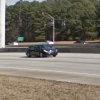Car: (21, 38, 69, 64)
